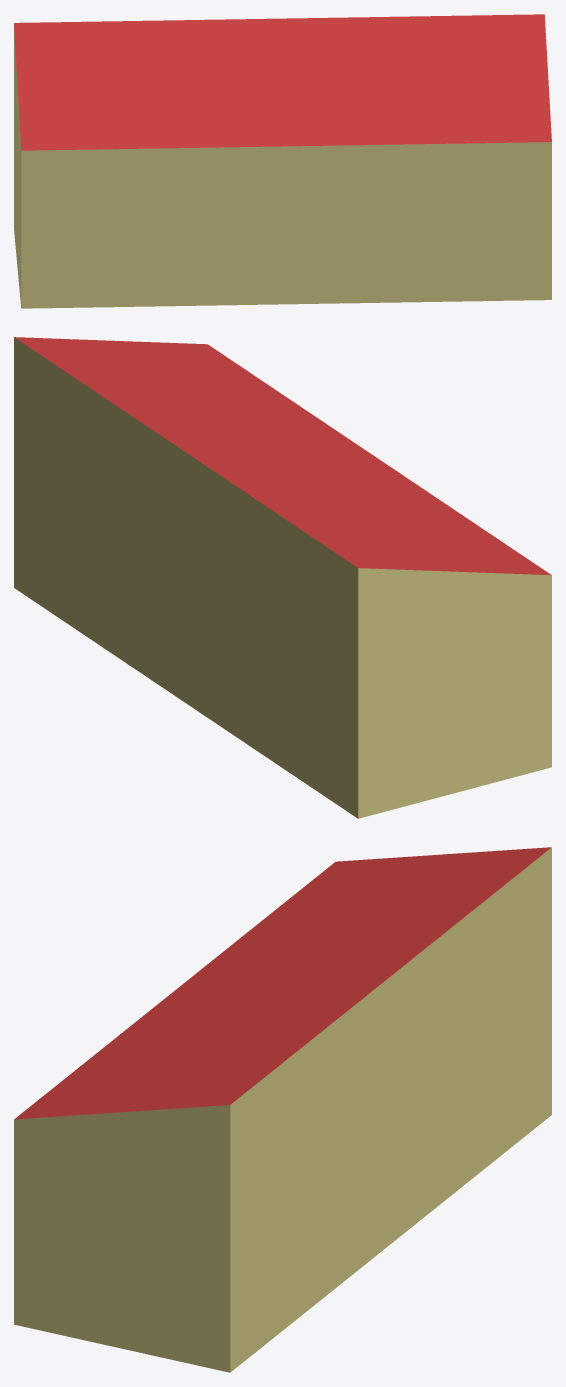
3 renders of one model, top to bottom at view 1: azimuth 30°, elevation 25°; view 2: azimuth 150°, elevation 25°; view 3: azimuth 270°, elevation 25°, orthographic. The views are drawn at different scales.
Bounding box in the file's own units: 19.68 × 14.62 × 8.03.
